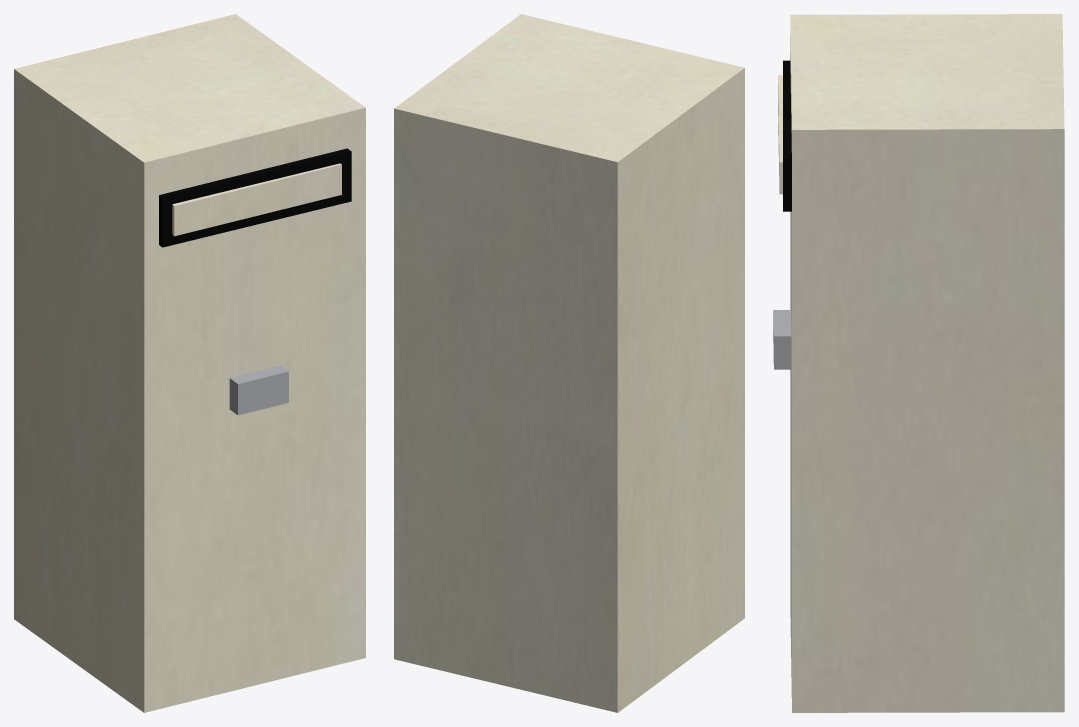
File: oldPC.glb
The picture shows the model from 3 angles, left to right: view 1: azimuth 30°, elevation 25°; view 2: azimuth 150°, elevation 25°; view 3: azimuth 270°, elevation 25°; orthographic projection. The views are drawn at different scales.
Visible parts, largest first — view 1: Computer, Cube, button; view 2: Computer; view 3: Computer, Cube, button.
Boxes of the visible parts, x1,y1,x2,y2 form: Computer: (14,14,365,712); Cube: (159,148,351,247); button: (229,365,288,415); Computer: (394,14,744,712); Computer: (778,14,1064,712); Cube: (783,60,791,211); button: (773,310,791,369).
Size of the model in its own units: 0.6571 by 1.54 by 0.6971.
Materials: 3 (1 with a texture image).
